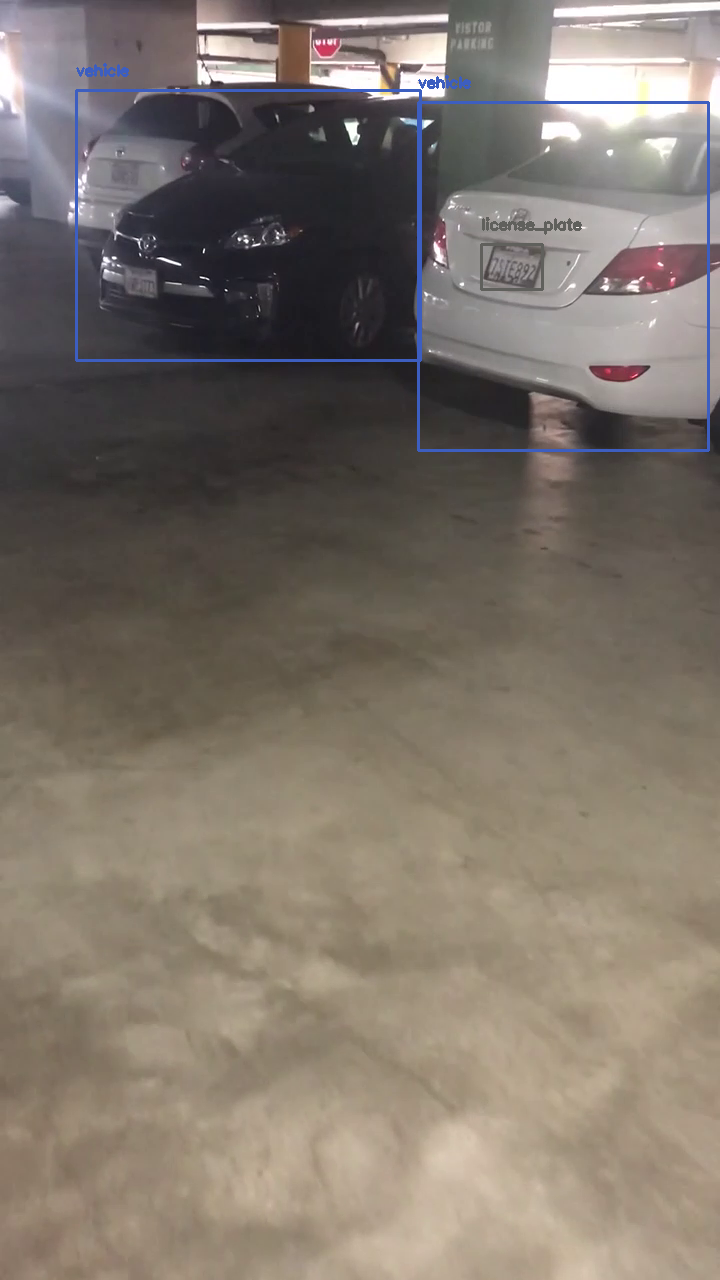license_plate: (481, 244, 542, 289)
vehicle: (418, 102, 708, 450), (76, 90, 420, 360)
